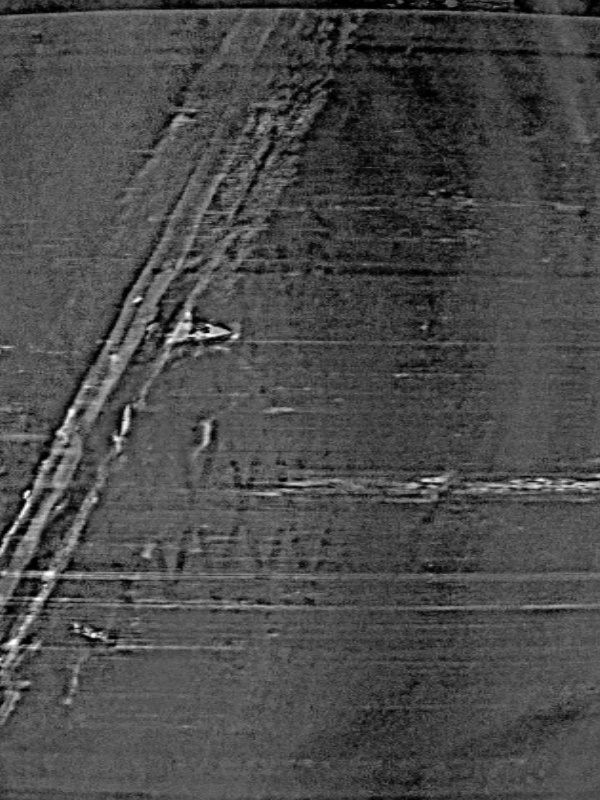splice_vulcanized: (1, 11, 364, 734)
